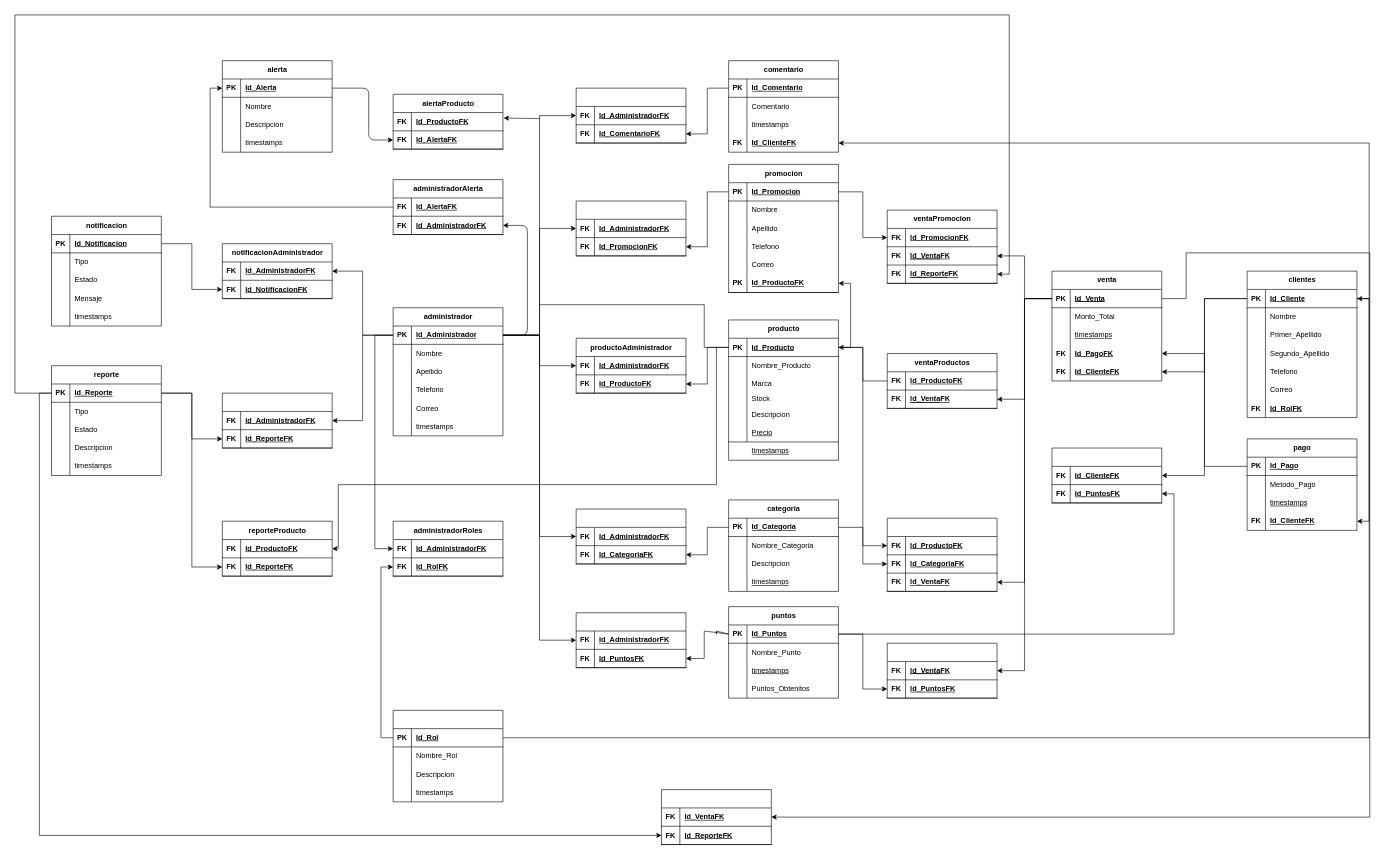
The diagram is 1385 pixels wide and 855 high, and some of its shapes have lost their labels. The box of each missing label's shape, as (x1, y1, x2, y2) in pixels:
categoriaAdministrador: (576, 508, 686, 564)
comentarioAdministrador: (576, 88, 686, 143)
productosCategoria: (887, 518, 997, 591)
promocionAdministrador: (576, 200, 686, 256)
puntosAdministrador: (576, 612, 686, 668)
puntosClientes: (1051, 447, 1162, 503)
reporteAdministrador: (222, 393, 332, 448)
reporteVenta: (661, 789, 771, 845)
roles: (393, 710, 503, 802)
ventaPuntos: (887, 643, 997, 698)
